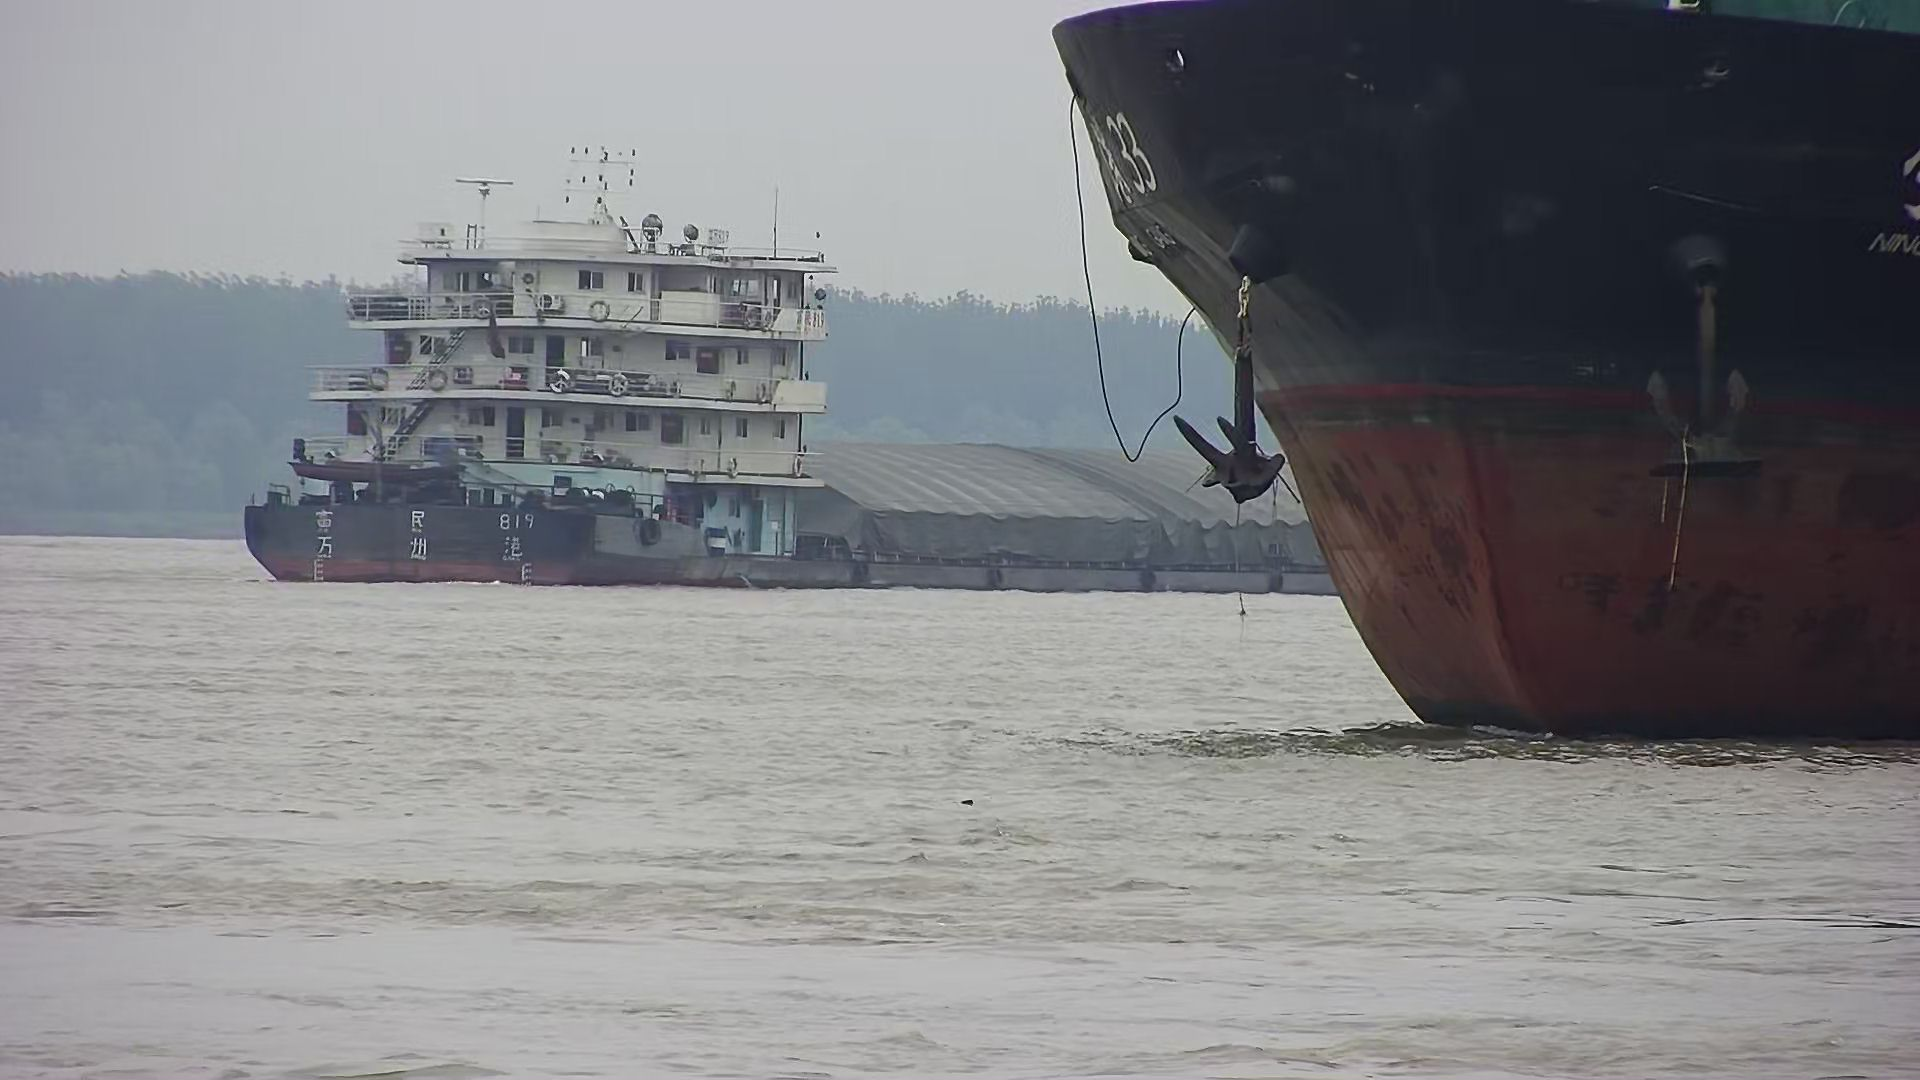ship: (1048, 3, 1920, 745), (243, 140, 1466, 605)
